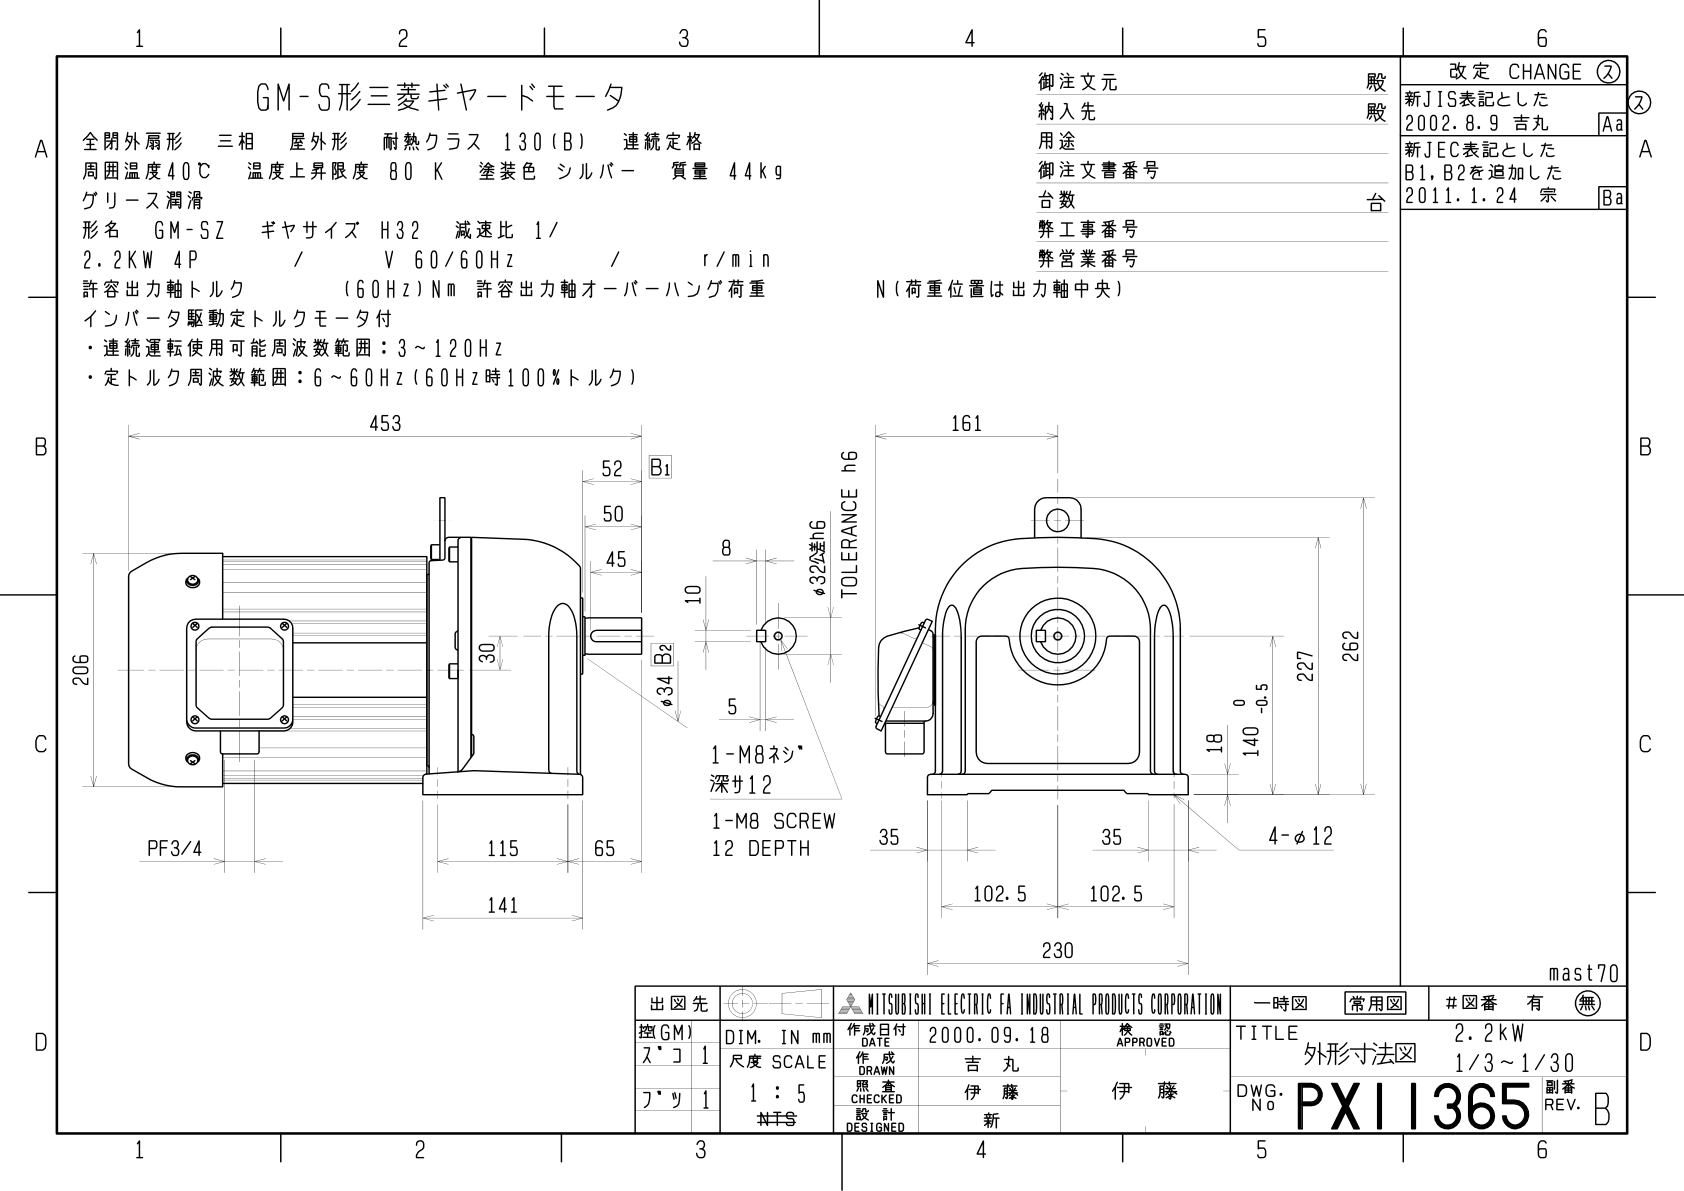GM_S_インバタ屋外＿三相_脚: (63, 410, 1385, 980)
